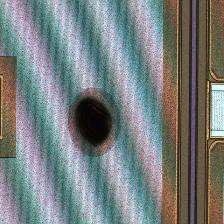PARTICLE: (60, 87, 132, 159)
